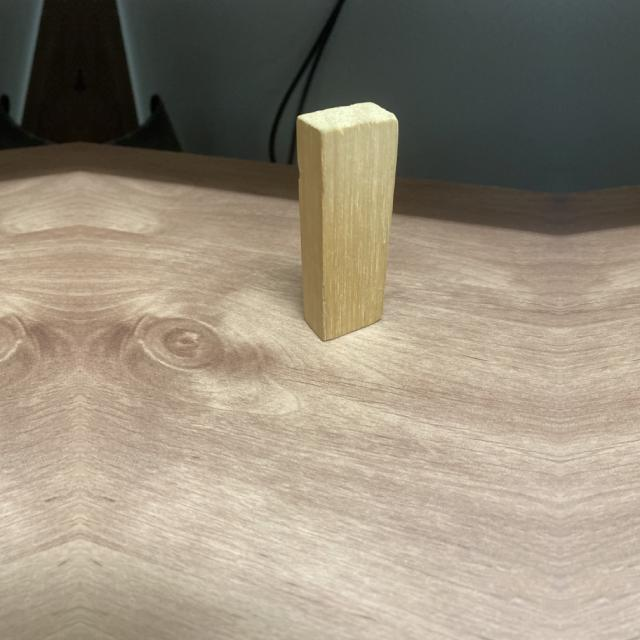jenga: (301, 100, 394, 344)
